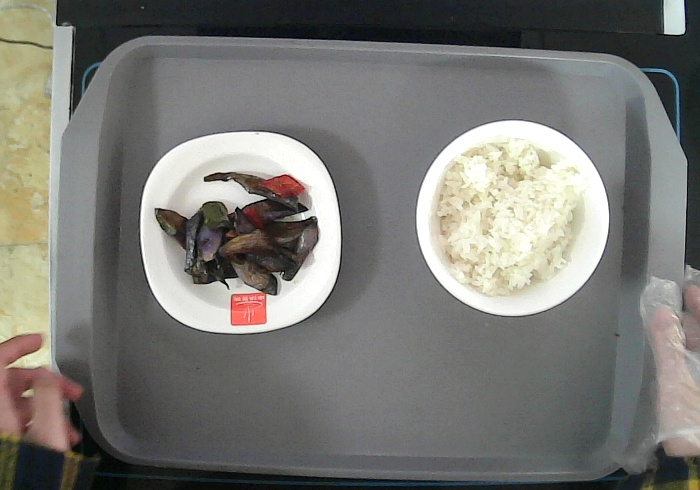SHKJ-Bai_Se_Si_Fang_Cai_Die: (136, 128, 345, 336)
SHKJ-Fan_Wan: (413, 117, 612, 317)
